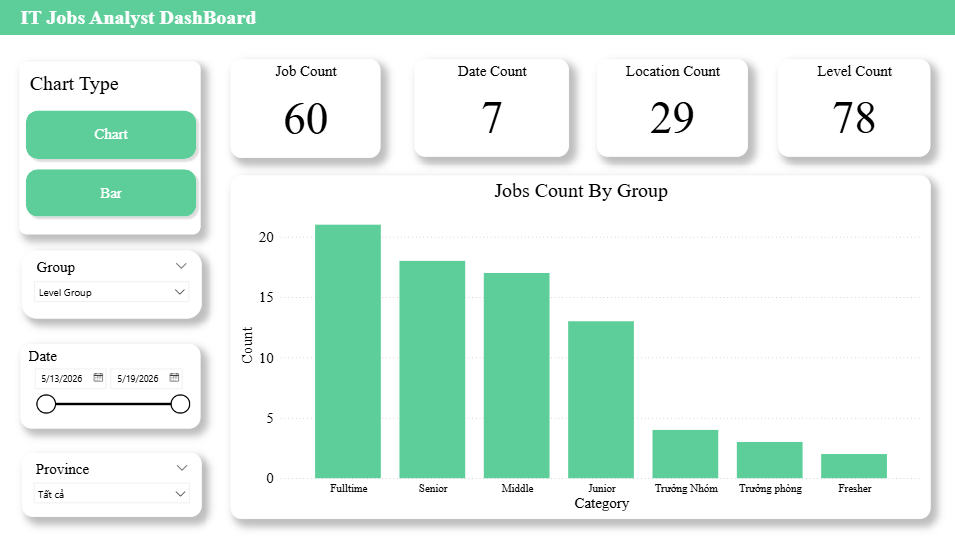

This screenshot's page, from the dashboard's own definition file:
{"tool":"powerbi","page":{"name":"Trang 1","canvas":[1280,720],"ordinal":0},"visuals":[{"type":"slicer","fields":{"Values":["Tham số 2.Tham số"]},"box":[31.4,335.7,240,91.4],"z":0},{"type":"shape","title":"Chart type","box":[28.3,83.3,241.7,230],"z":1000},{"type":"shape","title":"Đ","box":[0,0,1280,48.3],"z":3000},{"type":"pieChart","title":"Jobs Count By Group","fields":{"Category":["public level_mapping.raw_level"],"Y":["CountNonNull(public jobs_clean.id)"]},"box":[310,235,933.3,456.7],"z":4000},{"type":"actionButton","box":[30,141.4,241.4,78.6],"z":5000},{"type":"actionButton","title":"Bar","box":[30,220,241.4,77.1],"z":6000},{"type":"card","title":"Job Count","fields":{"Values":["CountNonNull(public jobs_clean.id)"]},"box":[310,80,200,131.7],"z":7000},{"type":"card","title":"Date Count","fields":{"Values":["CountNonNull(public date_mapping.id)"]},"box":[555,80,206.7,130],"z":8000},{"type":"card","title":"Location Count","fields":{"Values":["CountNonNull(public location_mapping.id)"]},"box":[798.3,80,201.7,130],"z":9000},{"type":"slicer","title":"Date","fields":{"Values":["public date_mapping.clean_date"]},"box":[30,460,240,112.9],"z":10000},{"type":"card","title":"Level Count","fields":{"Values":["CountNonNull(public job_level_mapping.level_id)"]},"box":[1039.9,79.5,202.9,130],"z":11000},{"type":"slicer","fields":{"Values":["public location_mapping.province"]},"box":[31.4,604.3,240,85.7],"z":12000}]}

Visuals, with their boxes in screenshot pixels (x1, y1, x2, y2), scaled from the page's 1280x720 canvas onto the 955x536 screenshot:
slicer - Tham số 2.Tham số: bbox(23, 250, 202, 318)
"Chart type" shape: bbox(21, 62, 201, 233)
"Đ" shape: bbox(0, 0, 954, 36)
"Jobs Count By Group" pieChart: bbox(231, 175, 928, 515)
actionButton: bbox(22, 105, 202, 164)
"Bar" actionButton: bbox(22, 164, 202, 221)
"Job Count" card: bbox(231, 60, 381, 158)
"Date Count" card: bbox(414, 60, 568, 156)
"Location Count" card: bbox(596, 60, 746, 156)
"Date" slicer: bbox(22, 342, 201, 426)
"Level Count" card: bbox(776, 59, 927, 156)
slicer - public location_mapping.province: bbox(23, 450, 202, 514)
